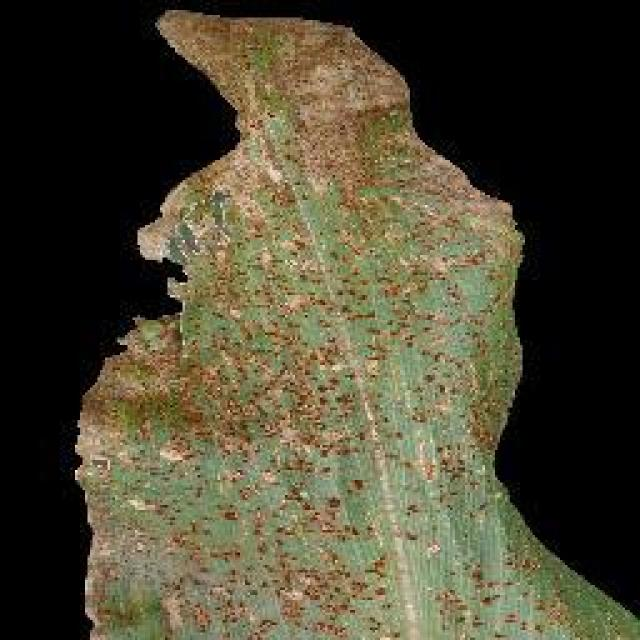Corn Common Rust: (185, 66, 560, 626)
